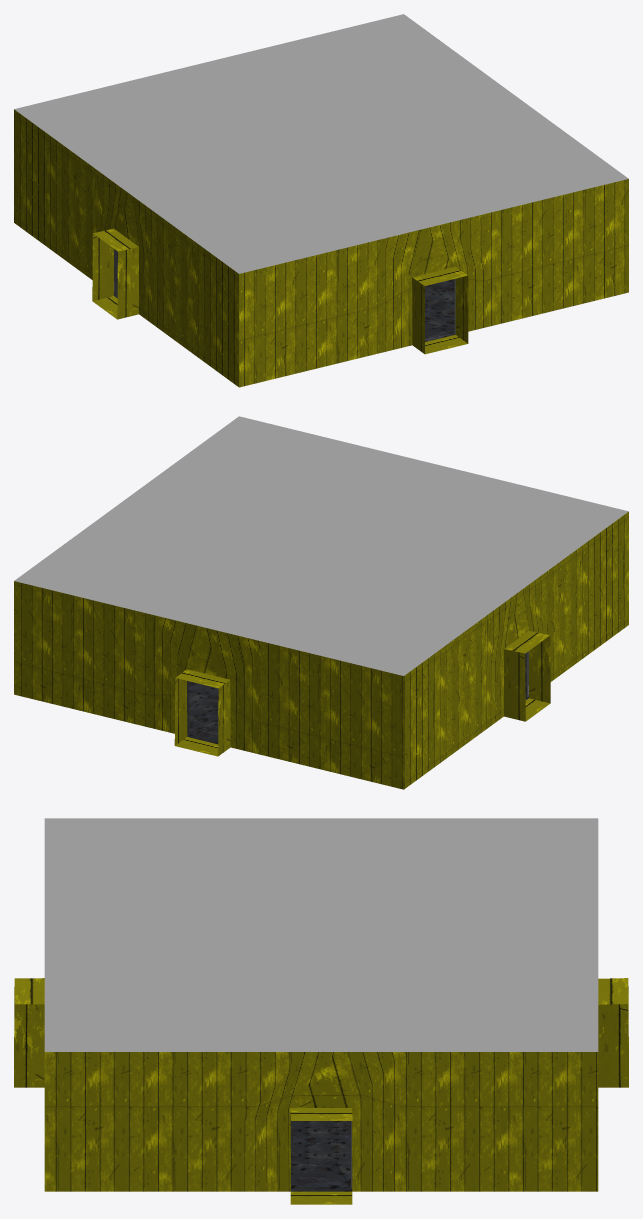
The model's file is elevatorroom.fbx.
3 renders of one model, top to bottom at view 1: azimuth 30°, elevation 25°; view 2: azimuth 150°, elevation 25°; view 3: azimuth 270°, elevation 25°, orthographic. The views are drawn at different scales.
Parts seen in each view (by area): view 1: Room_Elevator:Elevator; view 2: Room_Elevator:Elevator; view 3: Room_Elevator:Elevator.
Boxes of the visible parts, left/top/right/bottom form: Room_Elevator:Elevator: left=14, top=14, right=628, bottom=387; Room_Elevator:Elevator: left=14, top=416, right=628, bottom=789; Room_Elevator:Elevator: left=14, top=818, right=628, bottom=1204.
Size of the model in its own units: 2000 by 506 by 2000.
